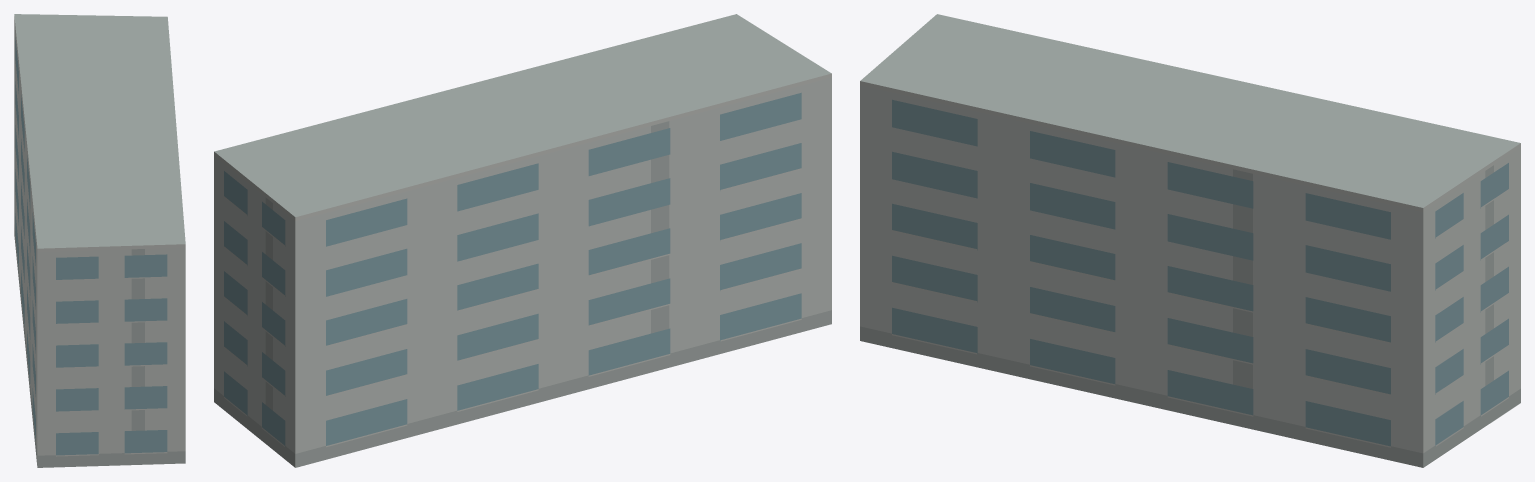
File: survey-upis-32835749.glb
The picture shows the model from 3 angles, left to right: view 1: azimuth 30°, elevation 25°; view 2: azimuth 150°, elevation 25°; view 3: azimuth 270°, elevation 25°; orthographic projection. The views are drawn at different scales.
Parts seen in each view (by area): view 1: survey-upis-32835749.tmp; view 2: survey-upis-32835749.tmp; view 3: survey-upis-32835749.tmp.
Boxes of the visible parts, box(x1,y1,x2,y2) form: survey-upis-32835749.tmp: box(14, 14, 185, 467); survey-upis-32835749.tmp: box(214, 14, 831, 467); survey-upis-32835749.tmp: box(860, 14, 1520, 467).
Bounding box in the file's own units: 24.42 × 15.25 × 35.15.
